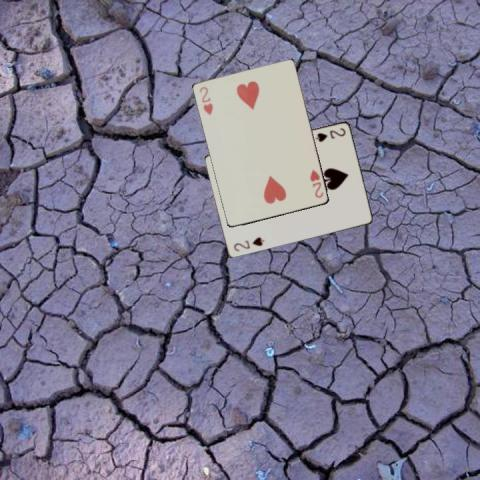2h: (196, 83, 214, 117), (307, 168, 325, 199)
2s: (231, 234, 265, 253), (313, 125, 347, 143)
